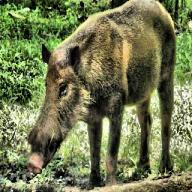boar: (24, 0, 176, 187)
